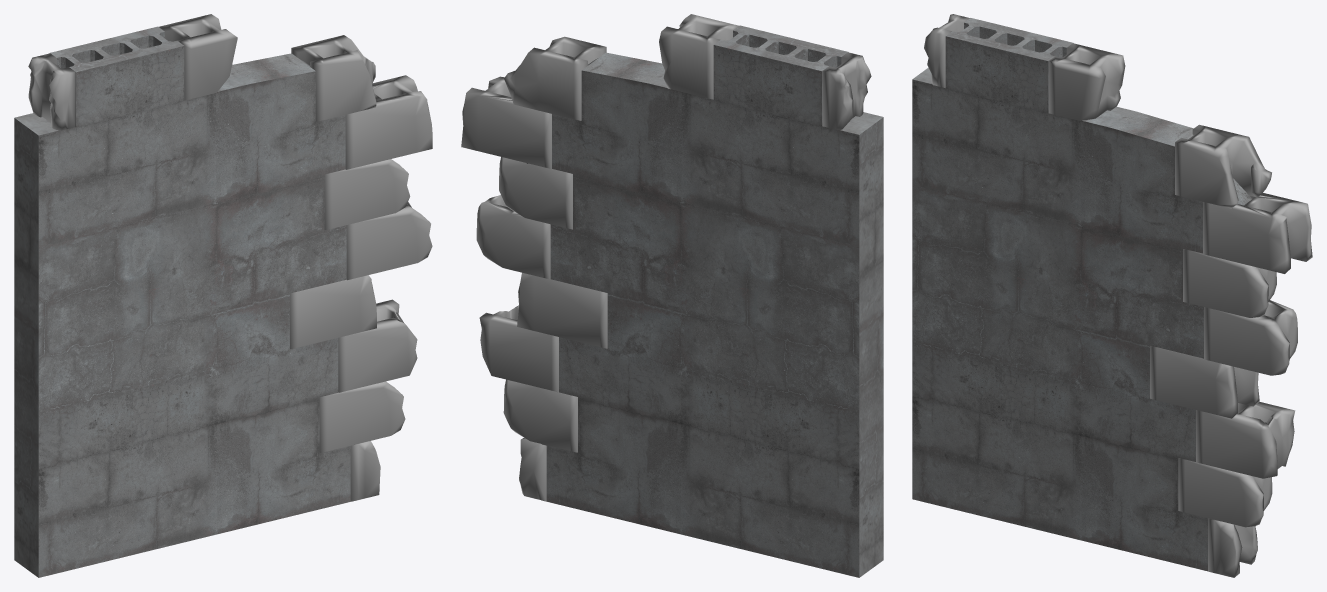
File: wall_Full_Broken_02.fbx
3 renders of one model, left to right at view 1: azimuth 30°, elevation 25°; view 2: azimuth 150°, elevation 25°; view 3: azimuth 330°, elevation 25°, orthographic. The views are drawn at different scales.
Parts seen in each view (by area): view 1: wall_Full_Broken_02; view 2: wall_Full_Broken_02; view 3: wall_Full_Broken_02.
Part boxes in pixels (left/top/right/bottom): wall_Full_Broken_02: left=14, top=14, right=432, bottom=577; wall_Full_Broken_02: left=461, top=14, right=883, bottom=577; wall_Full_Broken_02: left=912, top=14, right=1312, bottom=577.
Size of the model in its own units: 189 by 225 by 21.66.
Materials: 2 (1 with a texture image).
